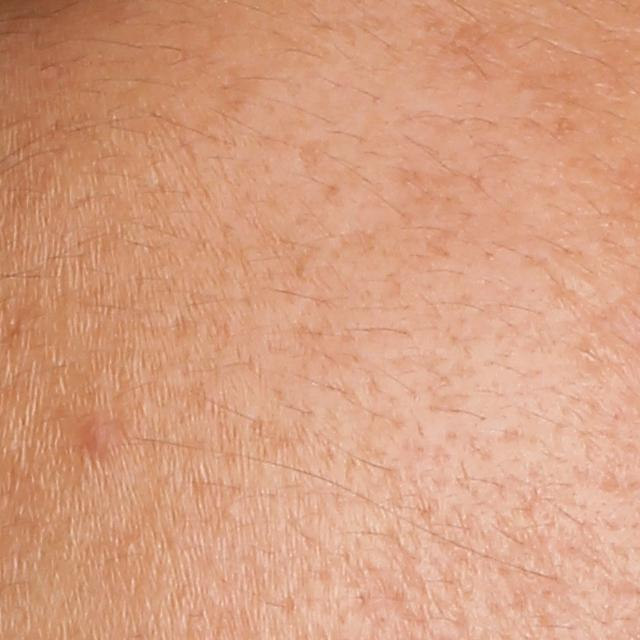comedo: (219, 500, 244, 522)
papule: (82, 416, 114, 453)
